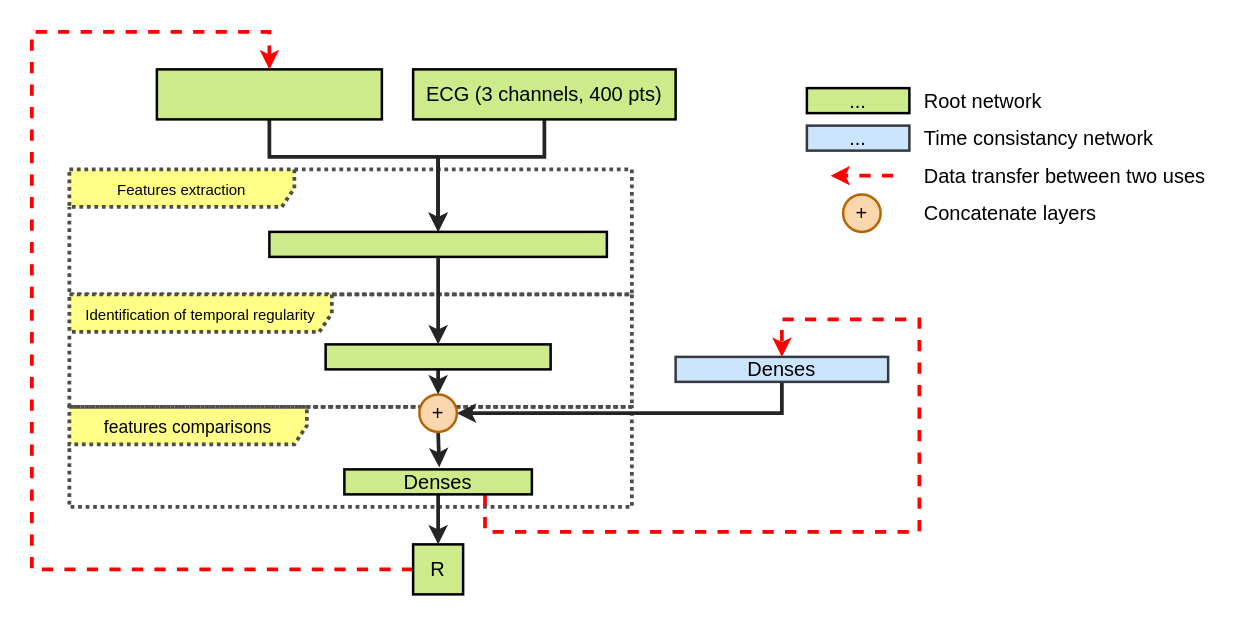
This 1254x618 diagram has some shape labels left out. The centre of each missing label's shape, as x and y in pixels:
"Convs 1D" goes at point (438, 244).
"Last 400 R predicitions" goes at point (268, 94).
"LSTMs" goes at point (437, 356).
